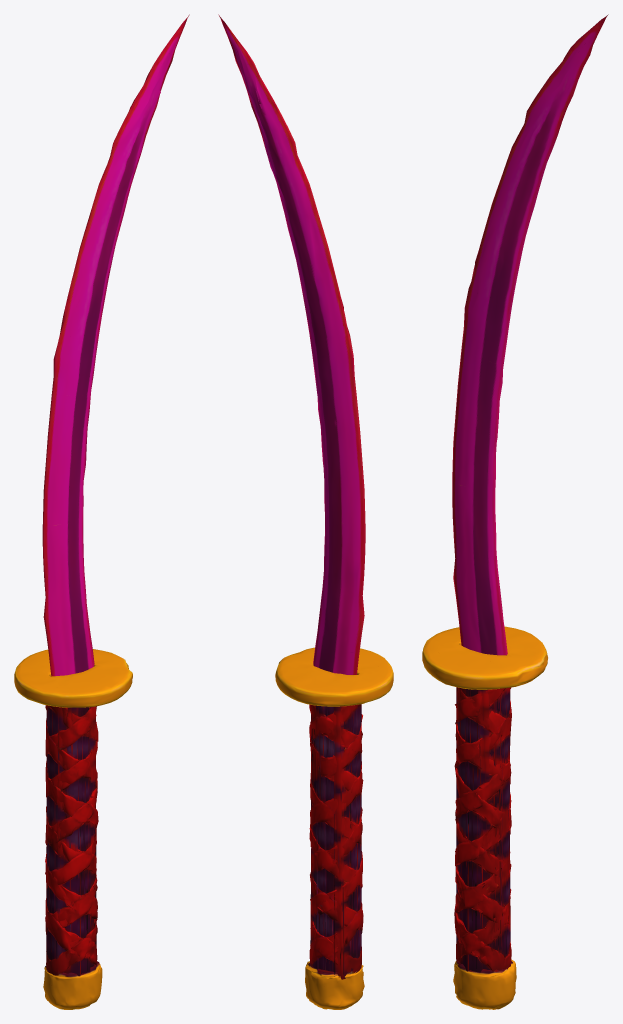
The model's file is sabre.glb.
The picture shows the model from 3 angles, left to right: view 1: azimuth 30°, elevation 25°; view 2: azimuth 150°, elevation 25°; view 3: azimuth 330°, elevation 25°; orthographic projection. The views are drawn at different scales.
Parts seen in each view (by area): view 1: geometry_0; view 2: geometry_0; view 3: geometry_0.
Part boxes in pixels (x1,y1,x2,y2): geometry_0: (14, 14, 189, 1009); geometry_0: (218, 14, 393, 1009); geometry_0: (422, 14, 608, 1009).
Size of the model in its own units: 0.1743 by 0.9497 by 0.1055.
Materials: 1 (1 with a texture image).
